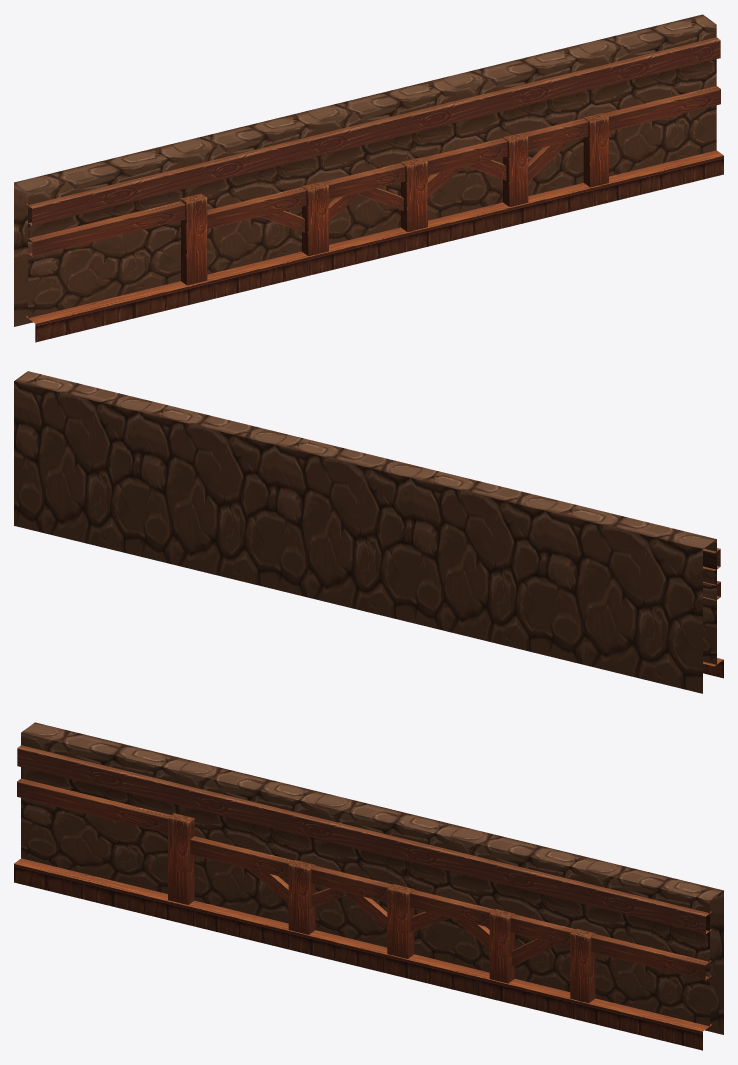
File: Qiang02.FBX
3 views of the same model, one above another, from view 1: azimuth 30°, elevation 25°; view 2: azimuth 150°, elevation 25°; view 3: azimuth 330°, elevation 25° (orthographic).
Parts seen in each view (by area): view 1: 对象115; view 2: 对象115; view 3: 对象115.
Part boxes in pixels (x1,y1,x2,y2): 对象115: (14, 14, 723, 342); 对象115: (14, 371, 723, 693); 对象115: (14, 722, 723, 1050).
Size of the model in its own units: 1715 by 344 by 91.05.
